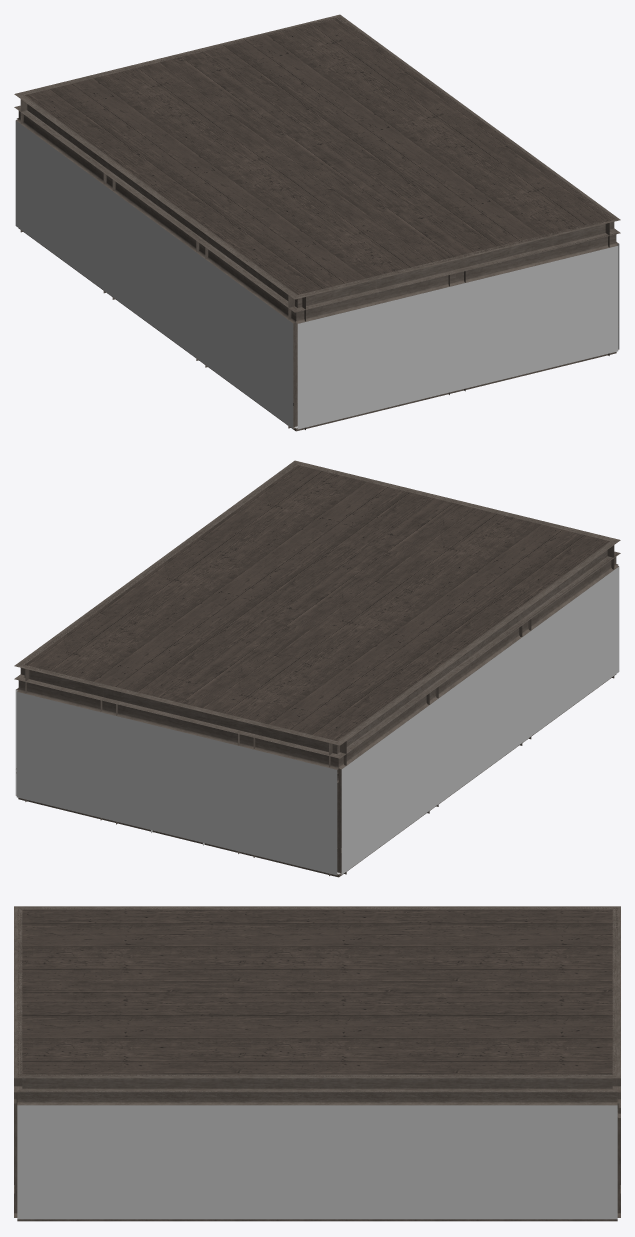
File: house_interior2.fbx
3 renders of one model, top to bottom at view 1: azimuth 30°, elevation 25°; view 2: azimuth 150°, elevation 25°; view 3: azimuth 270°, elevation 25°, orthographic. The views are drawn at different scales.
Visible parts, largest first — view 1: house_interior2; view 2: house_interior2; view 3: house_interior2.
Part boxes in pixels (left/top/right/bottom): house_interior2: left=14, top=14, right=620, bottom=431; house_interior2: left=14, top=460, right=620, bottom=877; house_interior2: left=14, top=906, right=620, bottom=1221.
Bounding box in the file's own units: 1017 × 399 × 1517.
